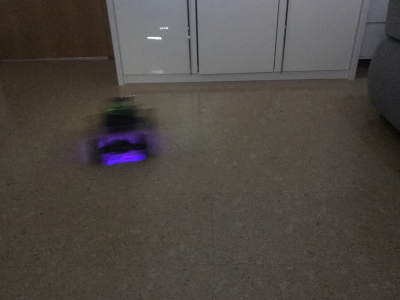remote control car: (85, 92, 158, 168)
